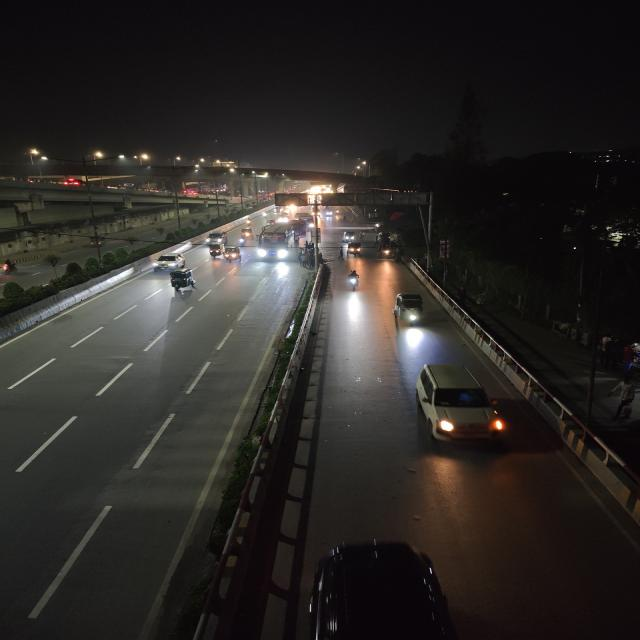bicycle: (359, 230, 368, 243)
bus: (253, 230, 296, 263), (296, 213, 314, 233)
car: (403, 360, 508, 445), (152, 253, 184, 270), (205, 228, 229, 244)
cng: (386, 292, 427, 330), (164, 266, 203, 296), (200, 239, 220, 258), (223, 245, 240, 262), (347, 243, 362, 256), (239, 227, 254, 239), (343, 232, 355, 241)
motorcycle: (346, 267, 366, 293), (245, 217, 253, 228)
pedestrian: (338, 246, 347, 262), (304, 241, 312, 256), (298, 246, 304, 262), (301, 254, 307, 267)
